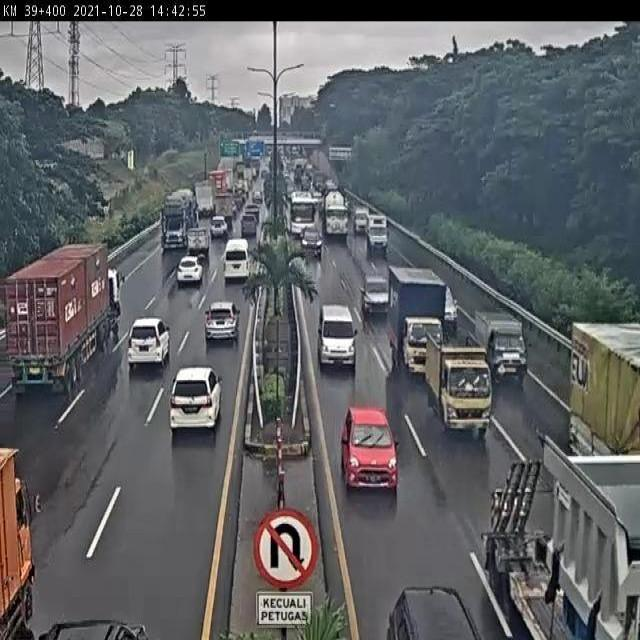big bus: (289, 190, 316, 238)
big truck: (5, 244, 123, 396), (322, 186, 351, 242)
car: (340, 409, 400, 495), (171, 366, 223, 434), (319, 303, 358, 372), (127, 314, 172, 370), (203, 300, 241, 347), (223, 236, 251, 281), (361, 275, 388, 316), (300, 225, 324, 260), (177, 255, 204, 284)
small truck: (426, 329, 492, 444), (387, 264, 448, 384), (474, 308, 532, 389), (366, 212, 390, 255), (187, 227, 211, 257), (354, 203, 370, 236)
